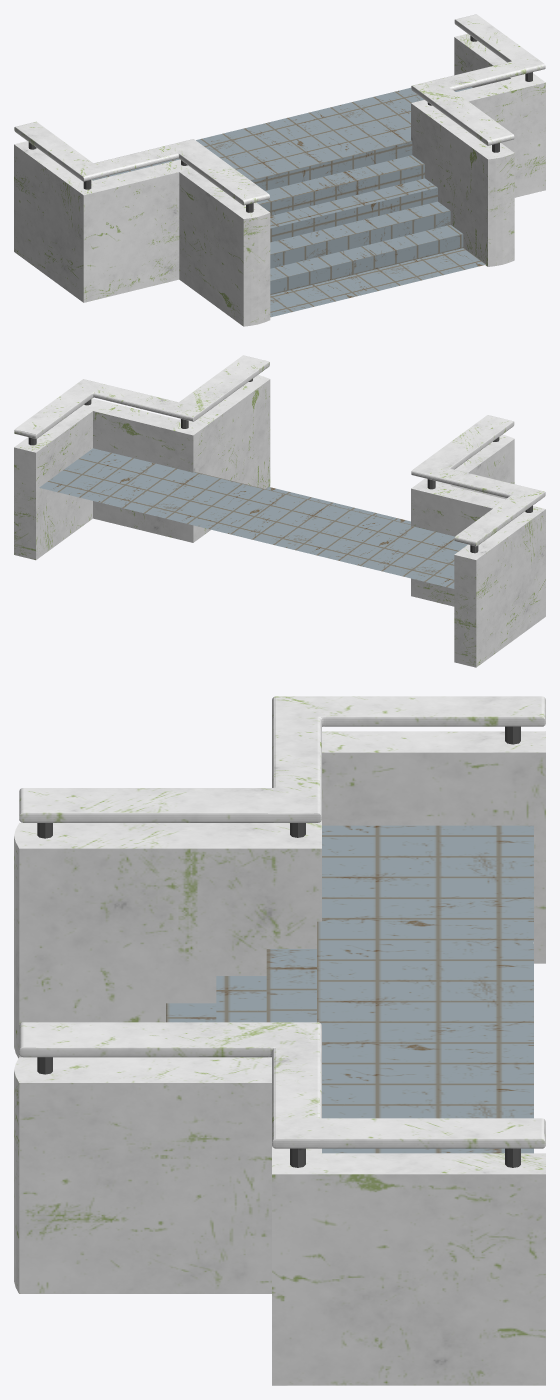
Rendered from EscadariaTriangulate.fbx.
3 views of the same model, one above another, from view 1: azimuth 30°, elevation 25°; view 2: azimuth 150°, elevation 25°; view 3: azimuth 270°, elevation 25° (orthographic). The views are drawn at different scales.
Parts seen in each view (by area): view 1: Escadaria; view 2: Escadaria; view 3: Escadaria.
Boxes of the visible parts, left/top/right/bottom form: Escadaria: left=14, top=14, right=545, bottom=326; Escadaria: left=14, top=355, right=545, bottom=667; Escadaria: left=14, top=696, right=545, bottom=1385.
Size of the model in its own units: 629 by 163 by 319.
1 material, 1 textured.
